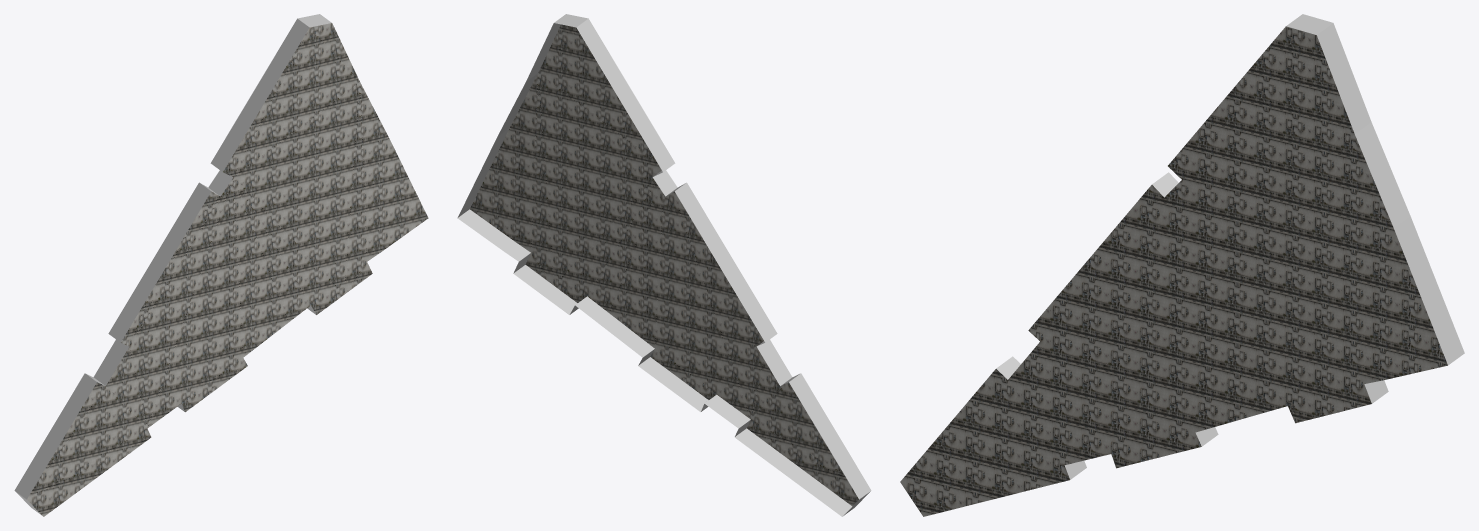
The model's file is geospecific_216.obj.
3 views of the same model, side by side, from view 1: azimuth 30°, elevation 25°; view 2: azimuth 150°, elevation 25°; view 3: azimuth 330°, elevation 25° (orthographic). The views are drawn at different scales.
Parts seen in each view (by area): view 1: Building; view 2: Building; view 3: Building.
Boxes of the visible parts, x1,y1,x2,y2 form: Building: (14, 14, 428, 516); Building: (457, 14, 871, 516); Building: (900, 14, 1464, 516).
Size of the model in its own units: 56.52 by 57.08 by 3.
